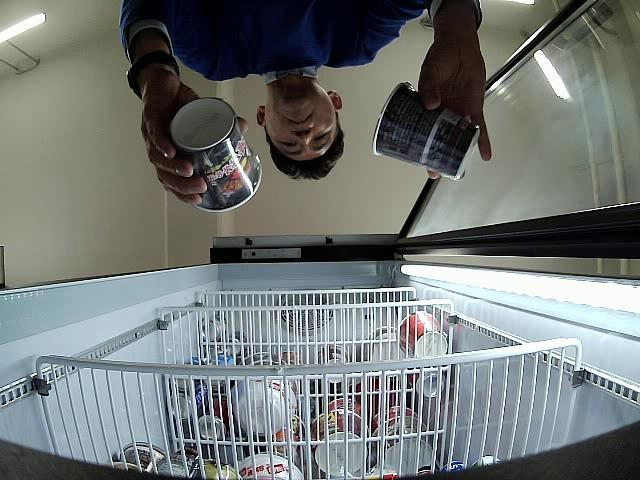00_hand: (141, 74, 249, 205), (420, 31, 491, 179)
08_buldak_S: (170, 97, 261, 212), (373, 83, 480, 174)
